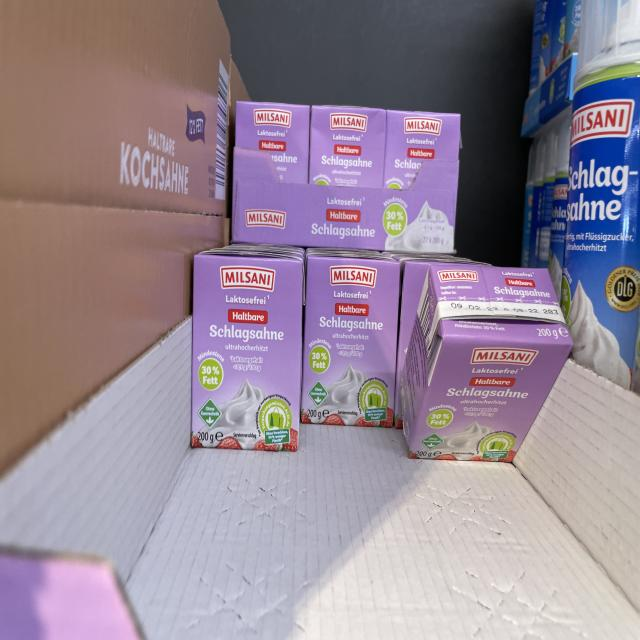Cream: (402, 263, 574, 462), (562, 0, 640, 389), (191, 250, 305, 451), (301, 252, 400, 427), (309, 104, 386, 187), (384, 109, 462, 188), (235, 100, 310, 182), (550, 112, 572, 301)
